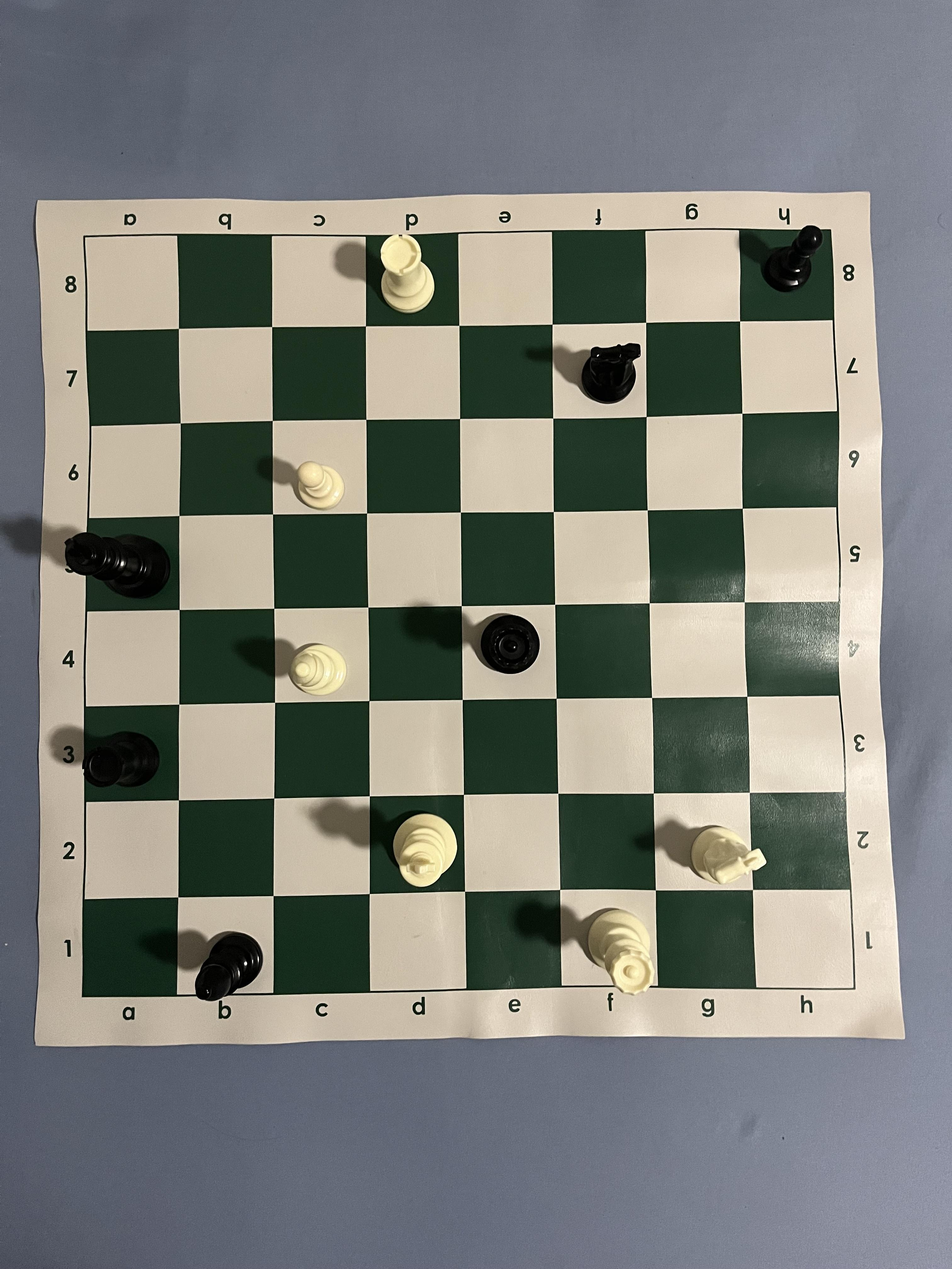black_bishop: (194, 930, 264, 1003)
black_king: (64, 532, 172, 600)
black_knight: (581, 343, 642, 404)
black_pawn: (762, 225, 824, 292)
black_queen: (480, 613, 541, 675)
black_rook: (81, 730, 160, 789)
white_bishop: (289, 643, 348, 697)
white_king: (392, 812, 459, 888)
white_knight: (690, 824, 767, 885)
white_pawn: (296, 461, 345, 510)
white_queen: (586, 907, 656, 996)
white_rook: (379, 234, 436, 314)
